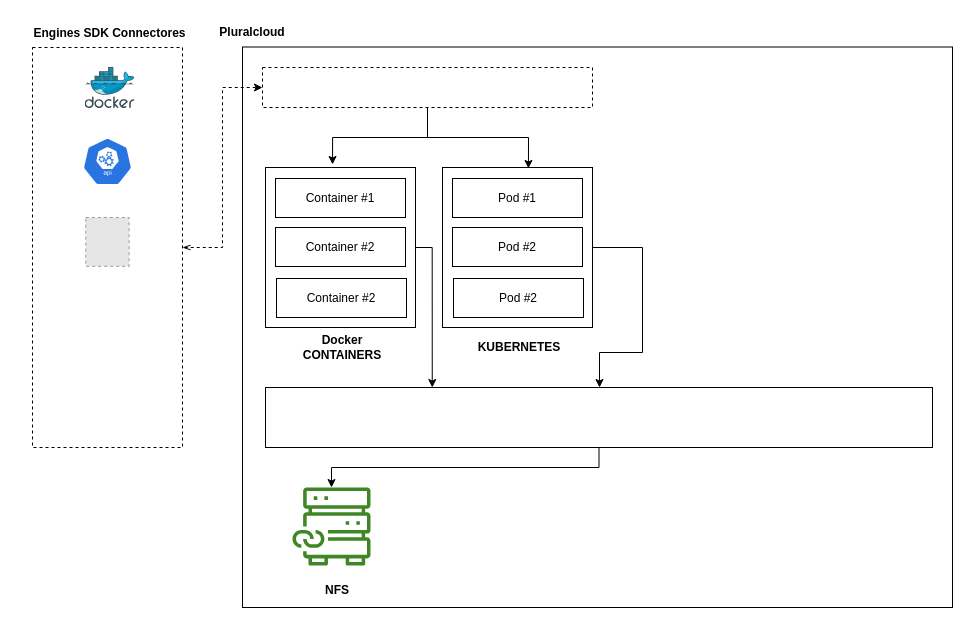
The diagram is 970 pixels wide and 625 high, and some of its shapes have lost their labels. Grey dashed boxes stand in for pictures. The centre of each missing label's shape, as x and y in pixels:
"Engines API Connectors" belongs at point (427, 87).
"Storage Drivers" belongs at point (598, 417).
